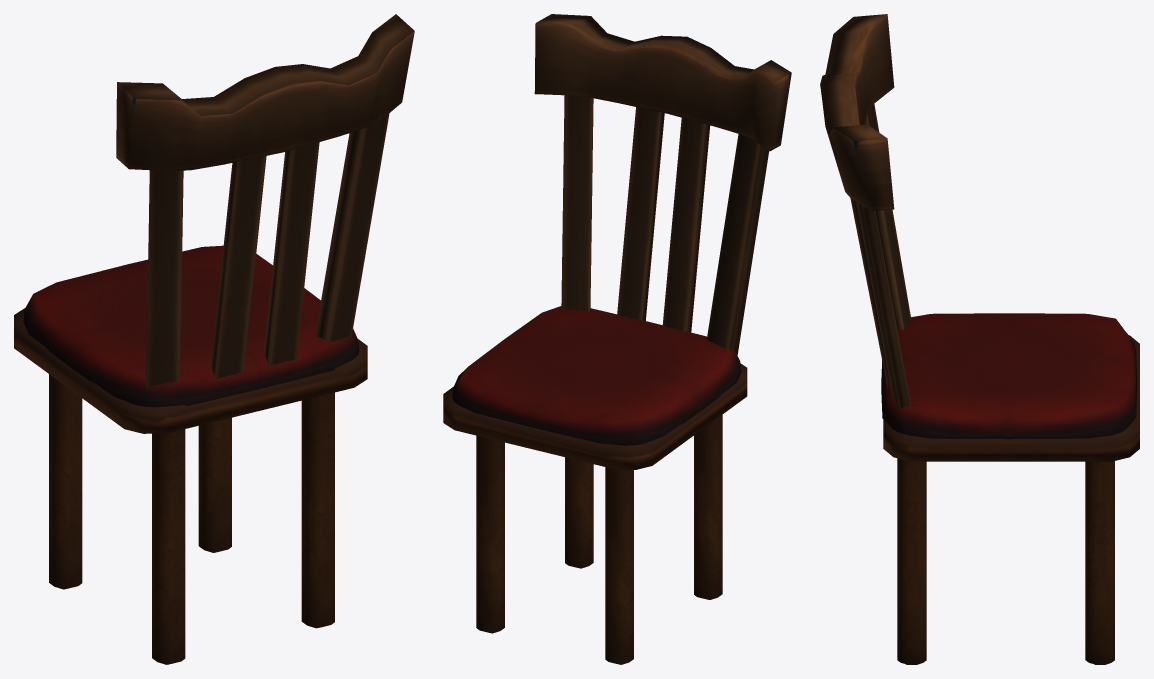
The model's file is Chair_L.fbx.
The picture shows the model from 3 angles, left to right: view 1: azimuth 30°, elevation 25°; view 2: azimuth 150°, elevation 25°; view 3: azimuth 270°, elevation 25°; orthographic projection. The views are drawn at different scales.
Parts seen in each view (by area): view 1: Chair_Backing_C, Chair_Legs_B, Chair_Cushion_Base_A, Chair_Base_A; view 2: Chair_Backing_C, Chair_Cushion_Base_A, Chair_Legs_B, Chair_Base_A; view 3: Chair_Cushion_Base_A, Chair_Backing_C, Chair_Legs_B, Chair_Base_A.
Part boxes in pixels (x1=…): Chair_Backing_C: x1=116, y1=14, x2=414, y2=389; Chair_Legs_B: x1=49, y1=374, x2=334, y2=664; Chair_Cushion_Base_A: x1=23, y1=245, x2=359, y2=407; Chair_Base_A: x1=14, y1=308, x2=367, y2=433; Chair_Backing_C: x1=534, y1=14, x2=791, y2=355; Chair_Cushion_Base_A: x1=452, y1=306, x2=741, y2=445; Chair_Legs_B: x1=476, y1=415, x2=722, y2=664; Chair_Base_A: x1=443, y1=364, x2=747, y2=469; Chair_Cushion_Base_A: x1=881, y1=313, x2=1137, y2=439; Chair_Backing_C: x1=820, y1=14, x2=910, y2=412; Chair_Legs_B: x1=897, y1=458, x2=1114, y2=664; Chair_Base_A: x1=883, y1=335, x2=1139, y2=461.
Size of the model in its own units: 5.66 by 11.72 by 6.14.
